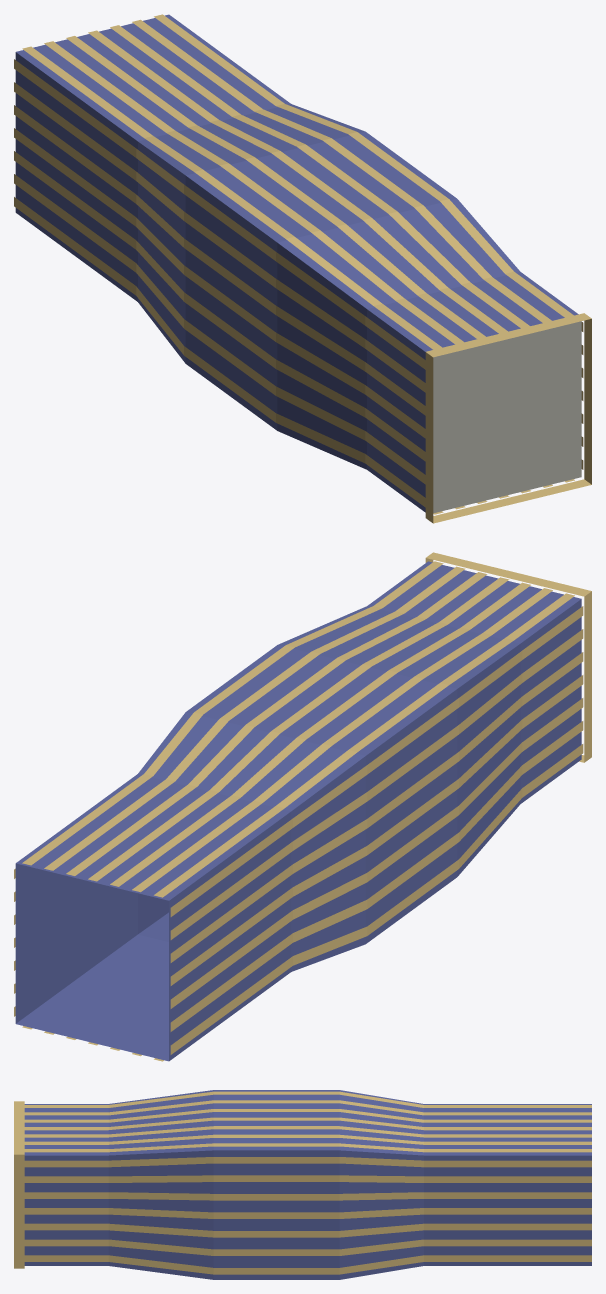
Rendered from construction_2.glb.
3 renders of one model, top to bottom at view 1: azimuth 30°, elevation 25°; view 2: azimuth 150°, elevation 25°; view 3: azimuth 270°, elevation 25°, orthographic. The views are drawn at different scales.
Visible parts, largest first — view 1: construction_2; view 2: construction_2; view 3: construction_2.
Boxes of the visible parts, x1=… form: construction_2: x1=14, y1=14, x2=591, y2=523; construction_2: x1=14, y1=552, x2=591, y2=1061; construction_2: x1=14, y1=1090, x2=591, y2=1279.
Bounding box in the file's own units: 13.84 × 13.84 × 55.
